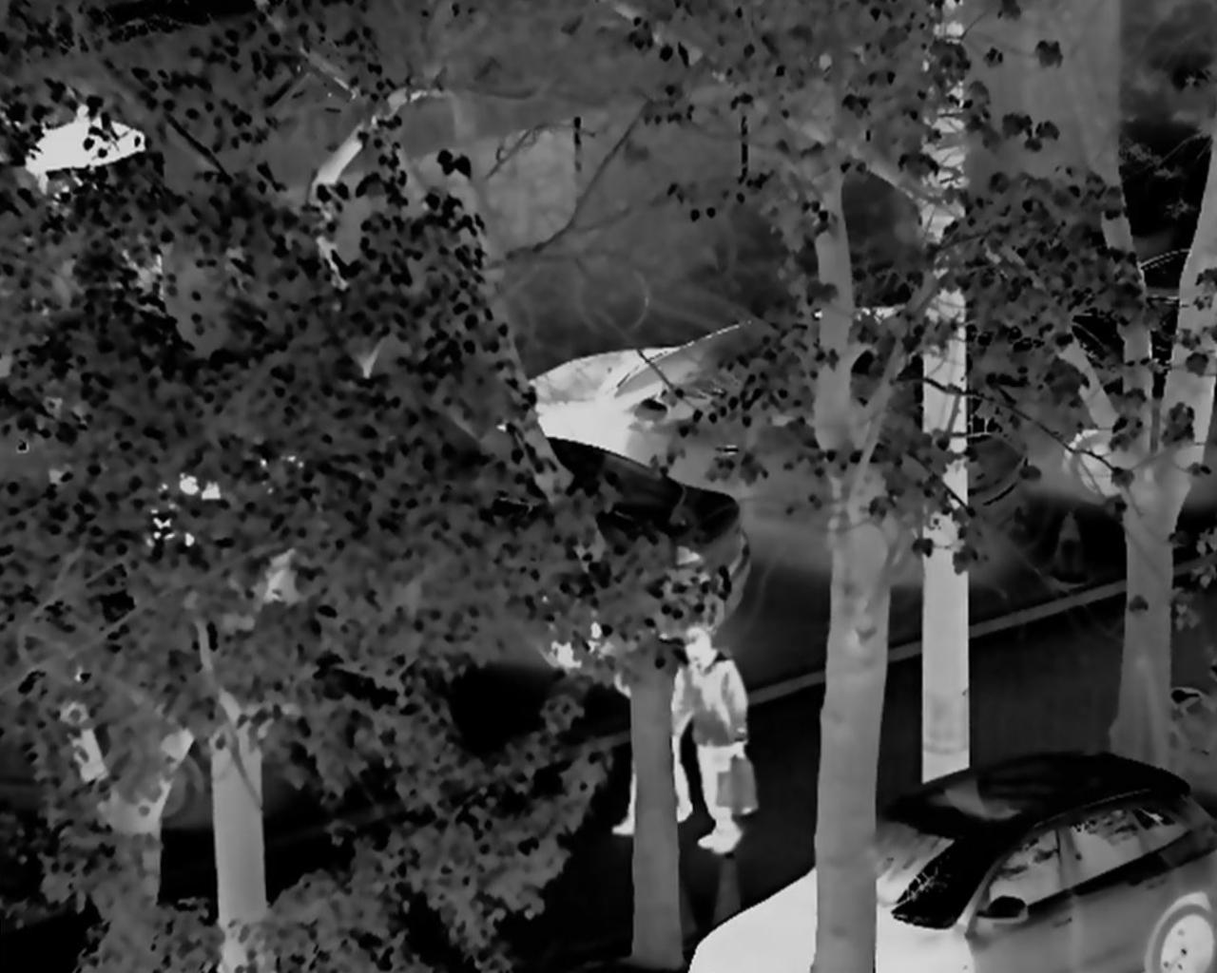person: (665, 620, 772, 853), (595, 633, 695, 838)
